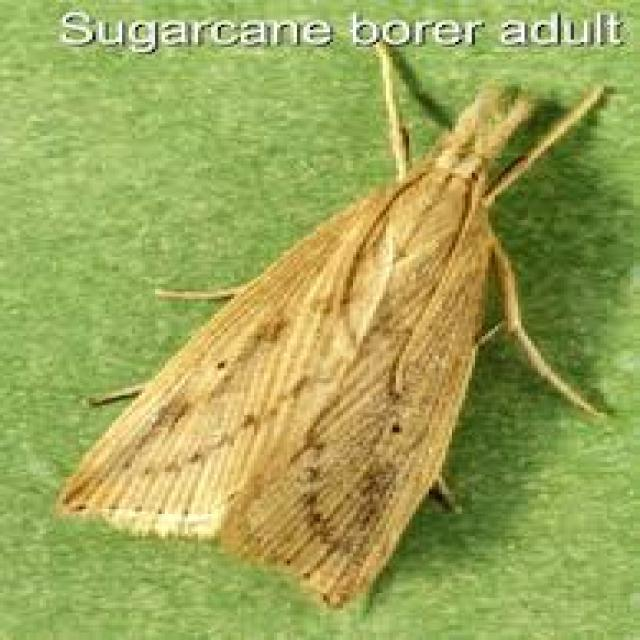yellow-stem-borer: (57, 46, 594, 608)
